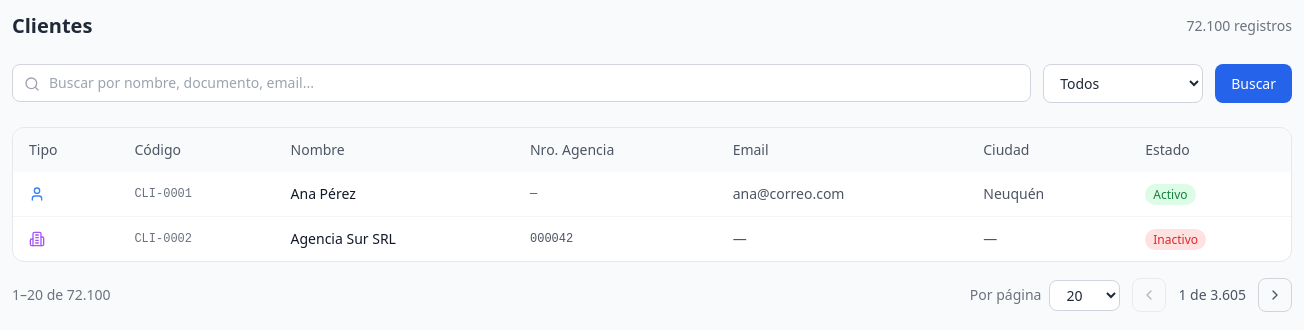
Scenario: ClientesListPage › cambiar el tamaño de página vuelve a la primera
The image size is (1304, 330).
Expected: the text "1–20 de 72.100" is shown, [12,285,111,305]
Click the button named "Página siguiente" at (1275, 295), box [1258,278,1292,312]
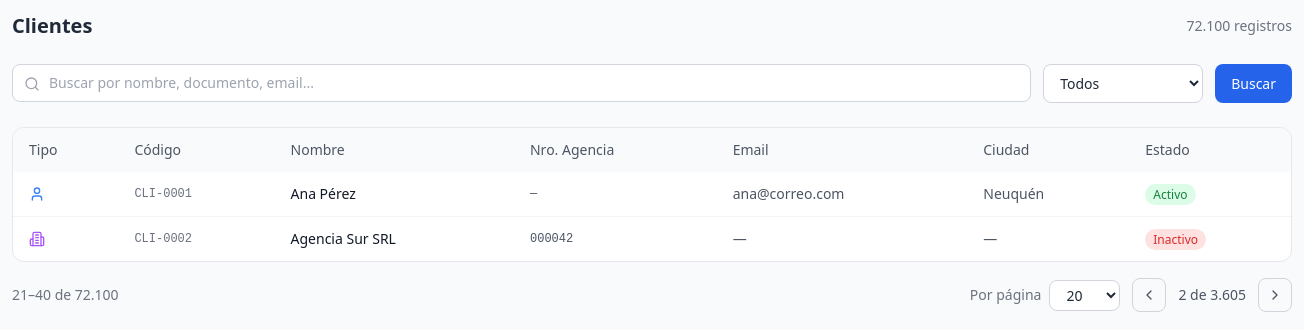
Select "100" in the dropdown named "Clientes por página" at (1085, 295), box [1049,280,1120,310]
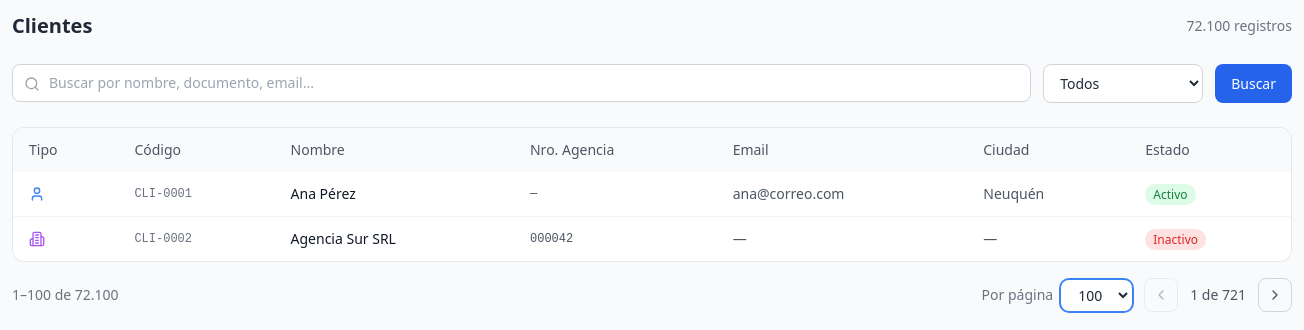
Expected: the text "1–100 de 72.100" is shown, [12,285,119,305]
